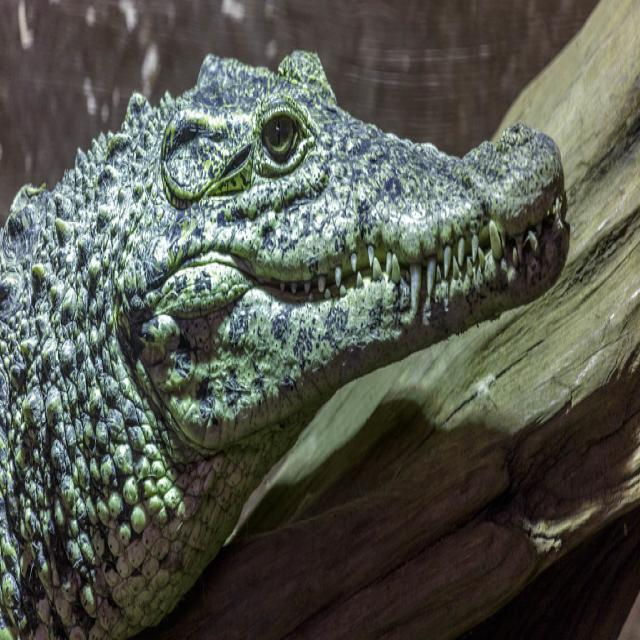crocodile: (0, 50, 576, 639)
